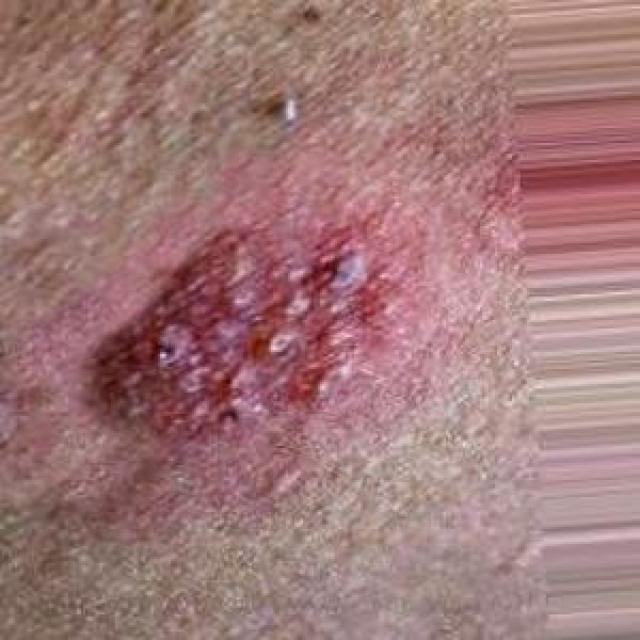Shingles: (91, 228, 409, 437)
